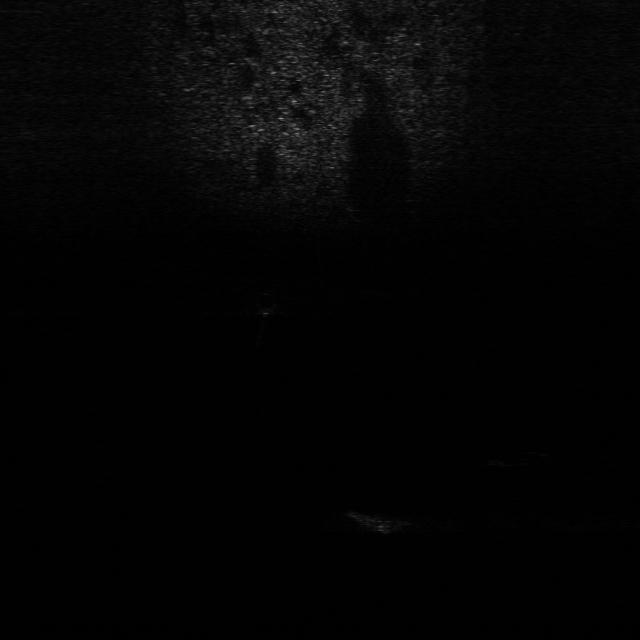ball: (248, 292, 283, 316)
metal bucket: (343, 506, 419, 538)
tyre: (490, 444, 550, 469)
